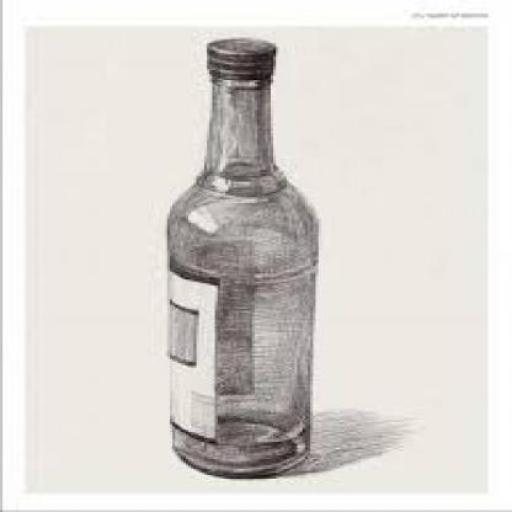glass: (167, 72, 311, 477)
metal: (207, 35, 271, 81)
